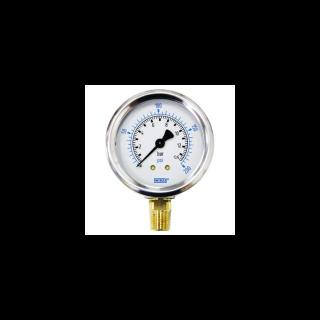gauge: (103, 88, 217, 199), (174, 155, 188, 169), (132, 154, 146, 168), (154, 138, 165, 150), (135, 163, 140, 167)
